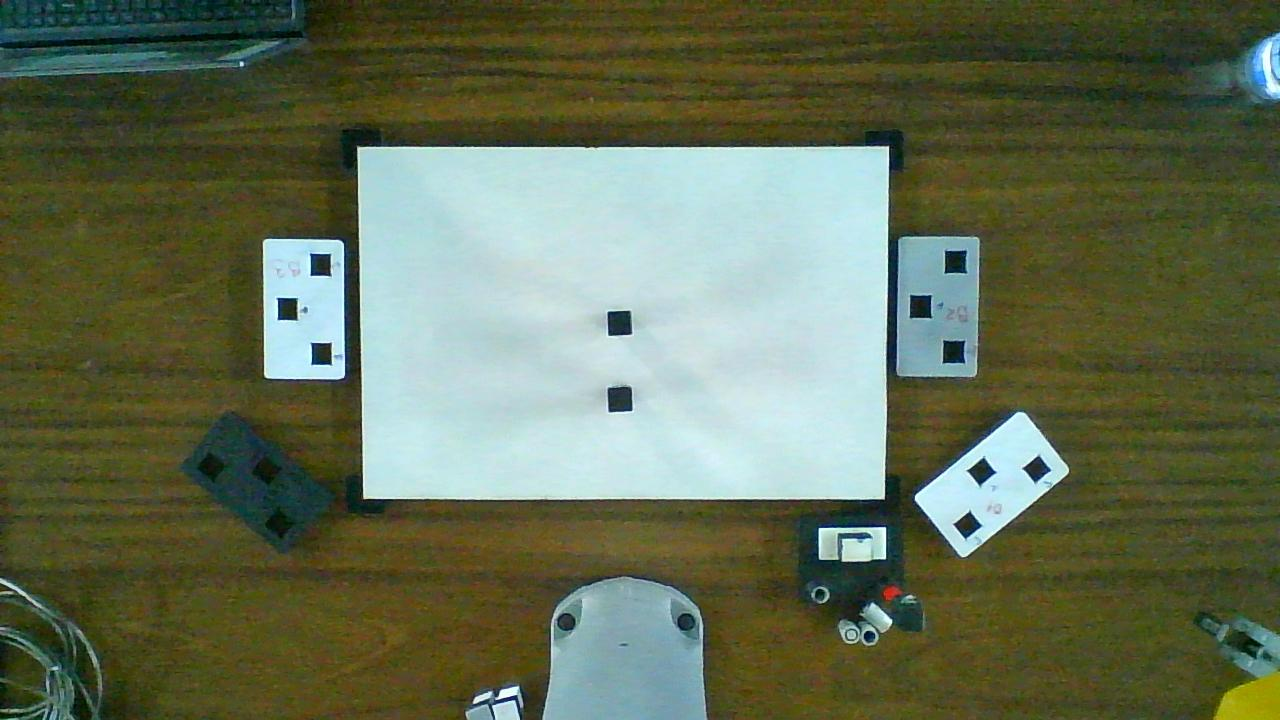peca_preta: (608, 312, 631, 334), (609, 389, 632, 411)
